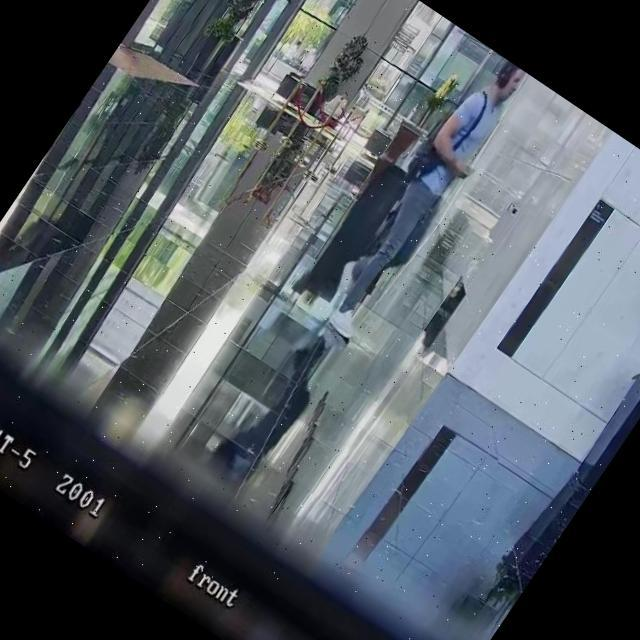person: (310, 51, 536, 352)
